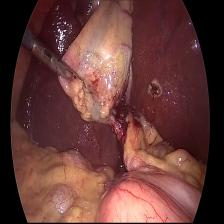Grasper: (27, 29, 92, 104)
